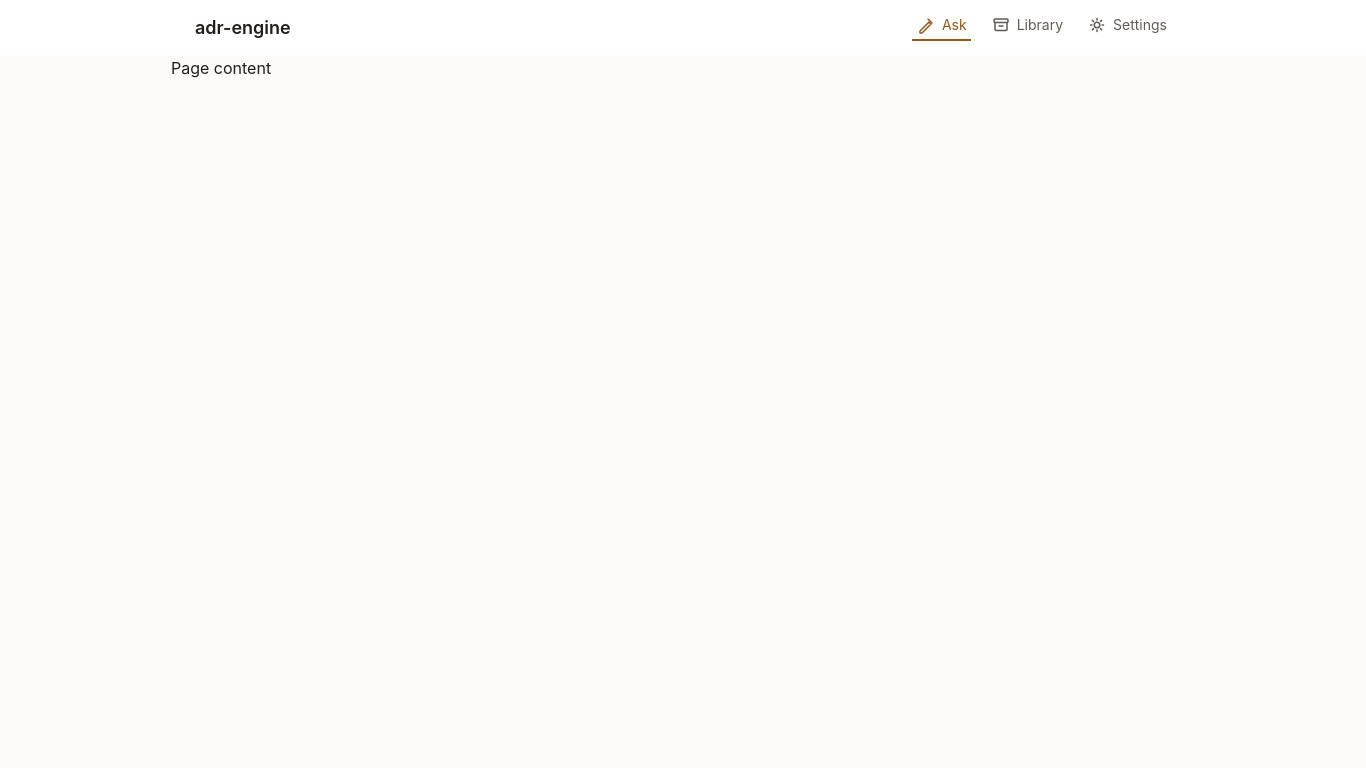
AppShell › shows TopNav again once focus mode is toggled back off
Press k
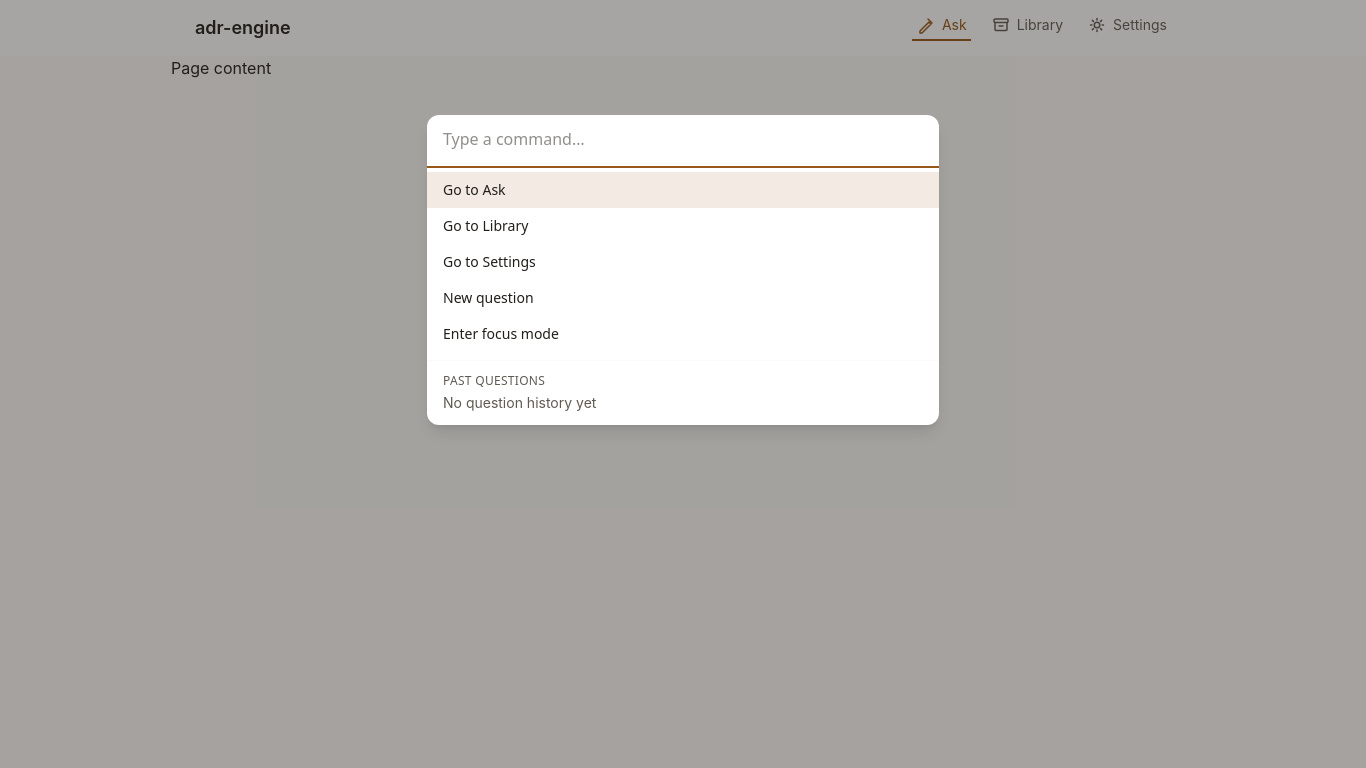
Click the button "Enter focus mode" at (501, 334), box [427,316,939,352]
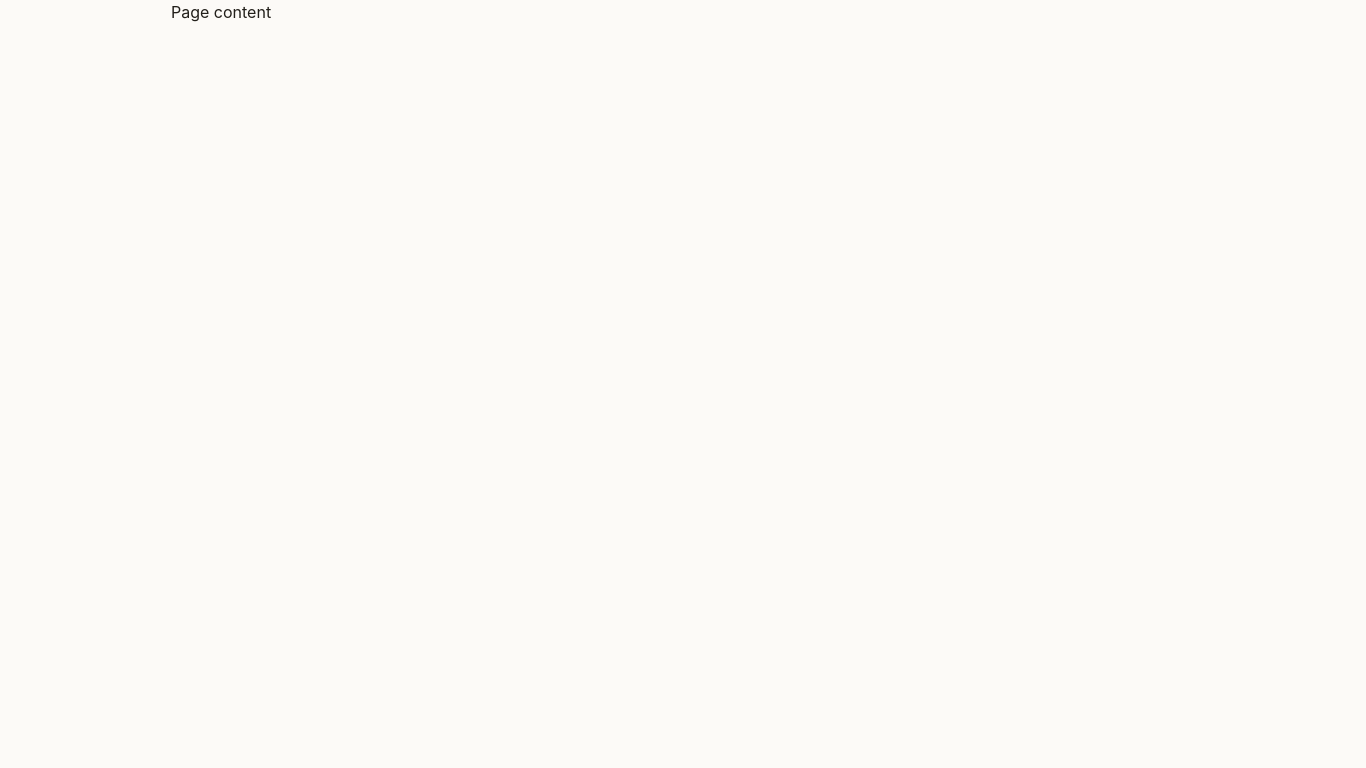
Press k
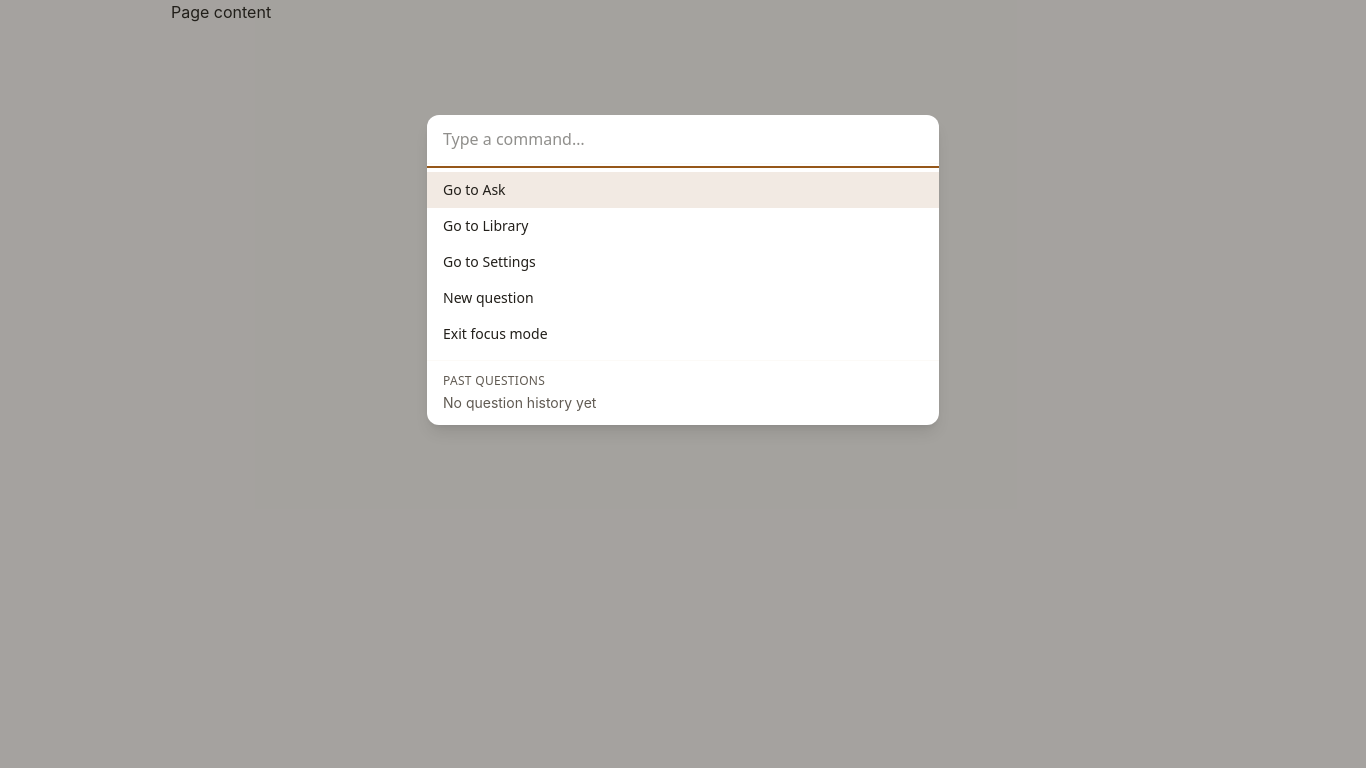
Click the button "Exit focus mode" at (495, 334), box [427,316,939,352]
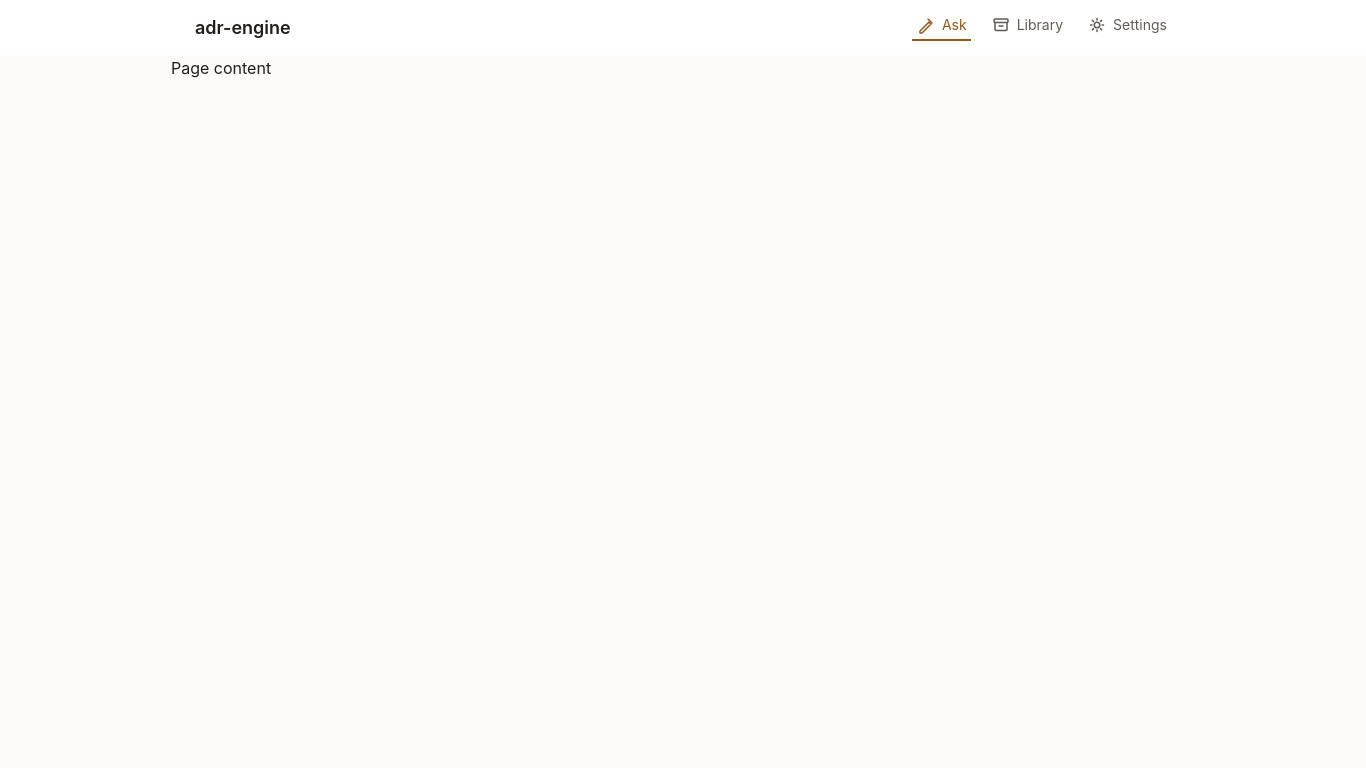
Now the text "adr-engine" is shown, box [195,14,291,42]
